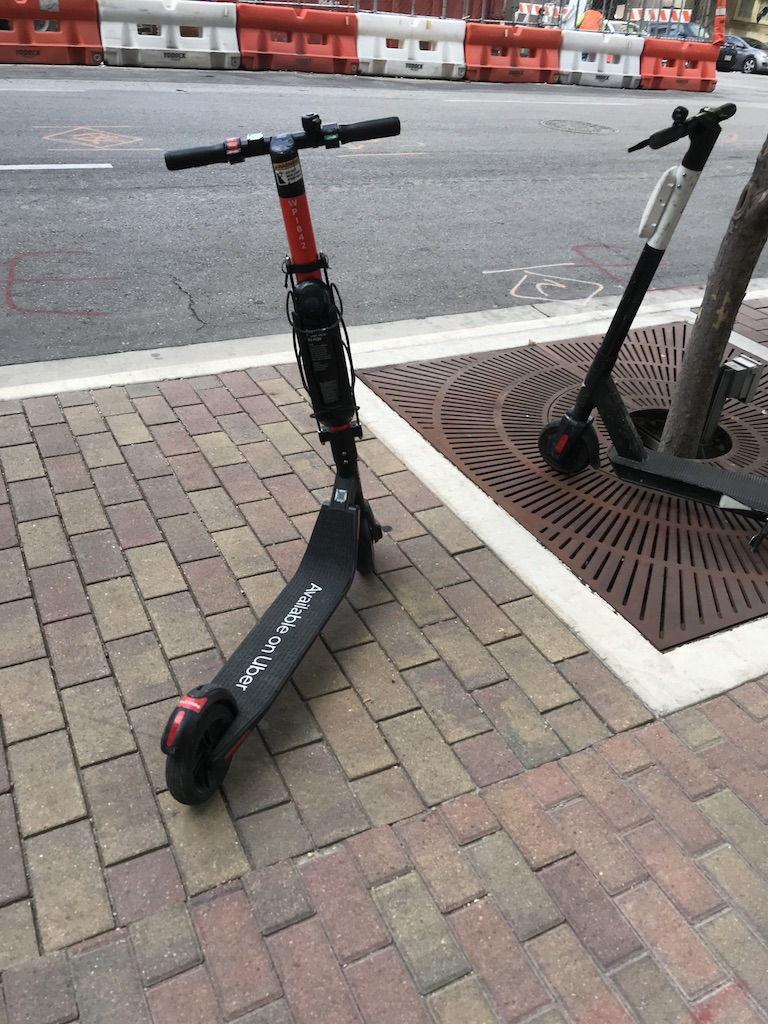scooter: (161, 112, 401, 809), (539, 102, 765, 522)
